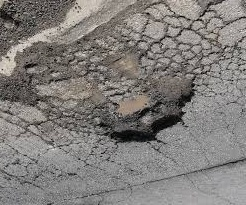pothole: (5, 27, 198, 158)
